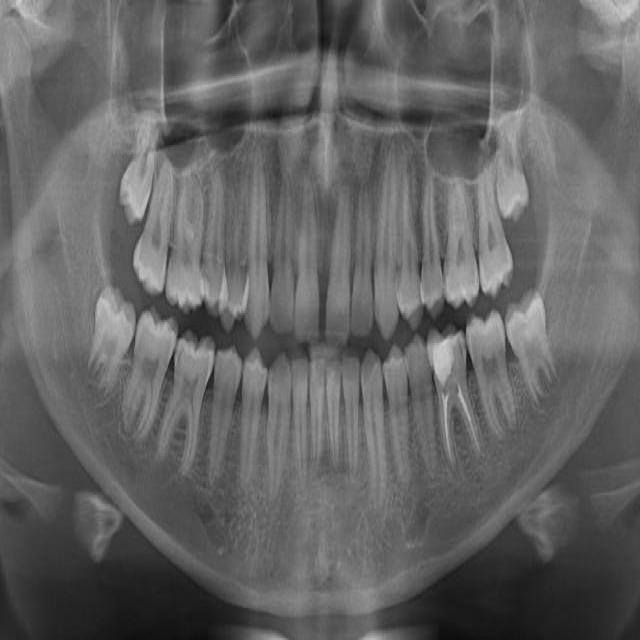dolgu: (431, 327, 466, 388)
kanal-tedavisi: (434, 374, 481, 460)
